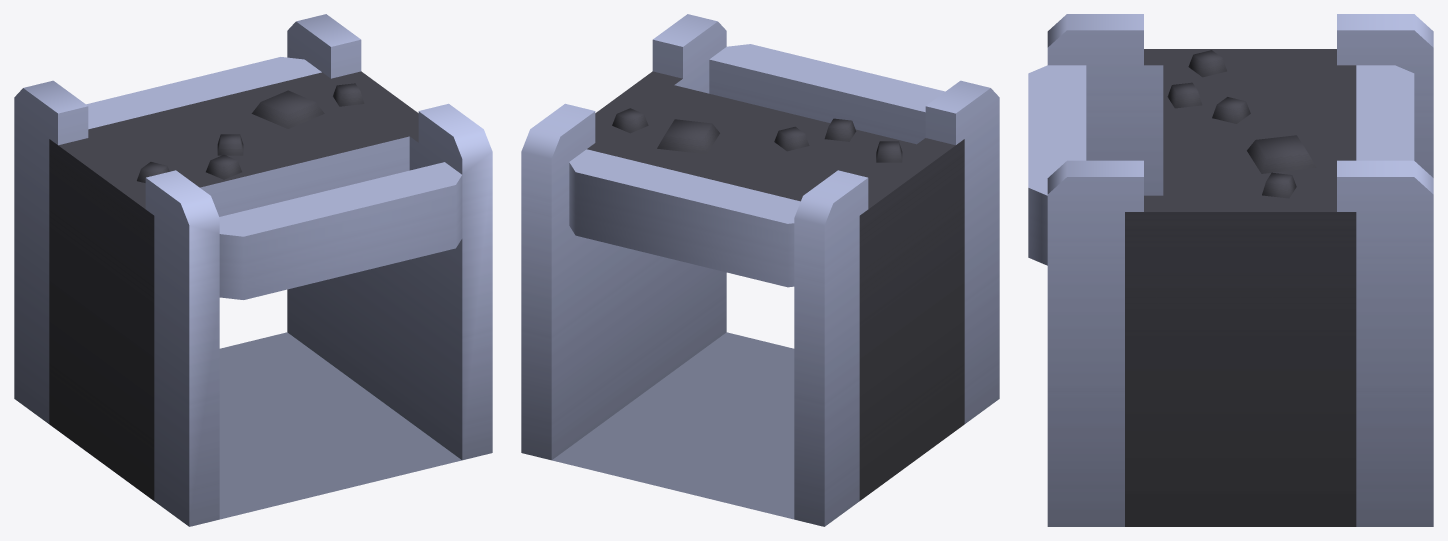
Rendered from wall-opening.gltf.
The picture shows the model from 3 angles, left to right: view 1: azimuth 30°, elevation 25°; view 2: azimuth 150°, elevation 25°; view 3: azimuth 270°, elevation 25°; orthographic projection. The views are drawn at different scales.
Parts seen in each view (by area): view 1: wall_opening; view 2: wall_opening; view 3: wall_opening.
Part boxes in pixels (box(x1,y1,x2,y2)): wall_opening: box(14, 14, 492, 526); wall_opening: box(521, 14, 999, 526); wall_opening: box(1028, 14, 1433, 526).
Size of the model in its own units: 1 by 1 by 1.05.
Materials: 1 (1 with a texture image).
